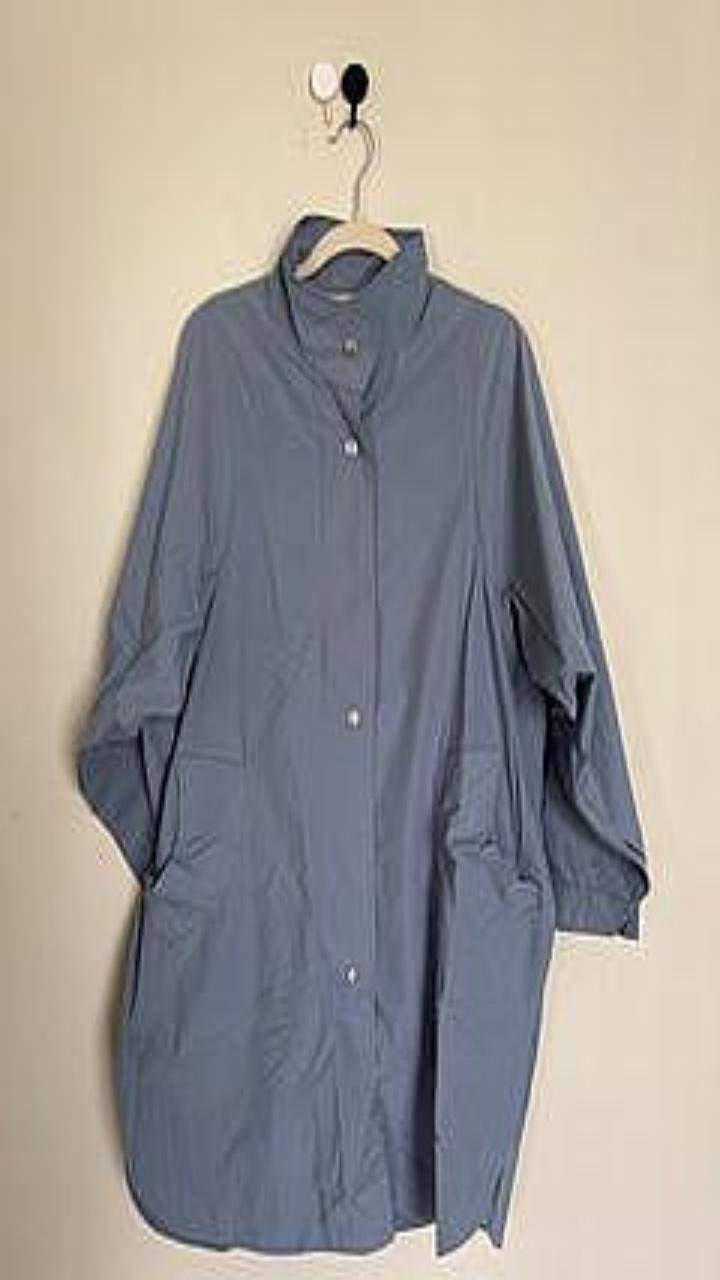Coat: (77, 213, 648, 1253)
